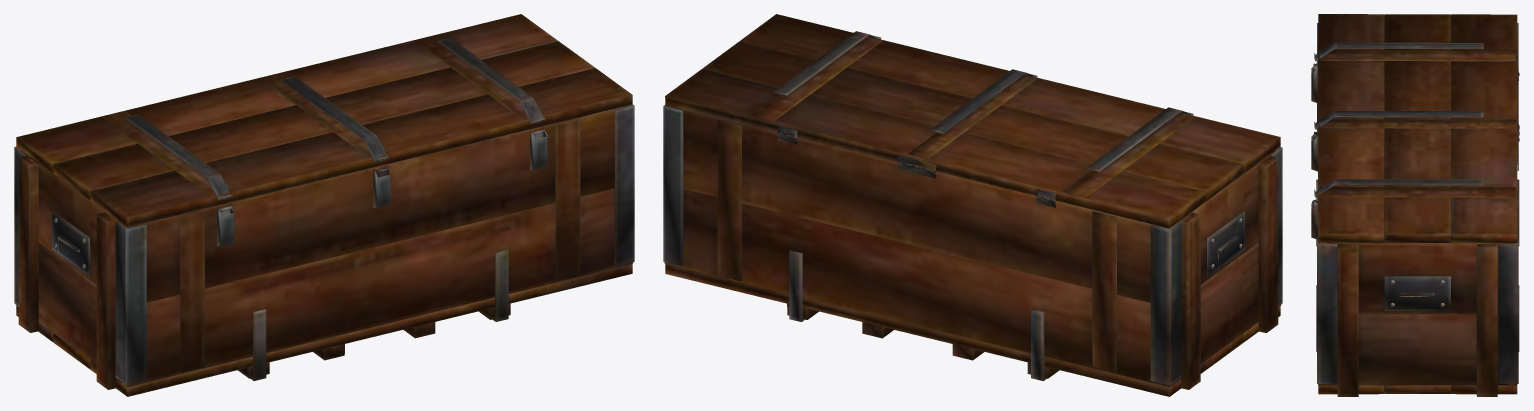
Rendered from wooden_military_crate.glb.
The picture shows the model from 3 angles, left to right: view 1: azimuth 30°, elevation 25°; view 2: azimuth 150°, elevation 25°; view 3: azimuth 270°, elevation 25°; orthographic projection. The views are drawn at different scales.
Visible parts, largest first — view 1: wooden_military_crate; view 2: wooden_military_crate; view 3: wooden_military_crate.
Boxes of the visible parts, x1,y1,x2,y2 form: wooden_military_crate: (14, 14, 634, 396); wooden_military_crate: (663, 14, 1282, 396); wooden_military_crate: (1311, 14, 1519, 396).
Size of the model in its own units: 1.24 by 0.4639 by 0.4802.
1 material, 1 textured.
